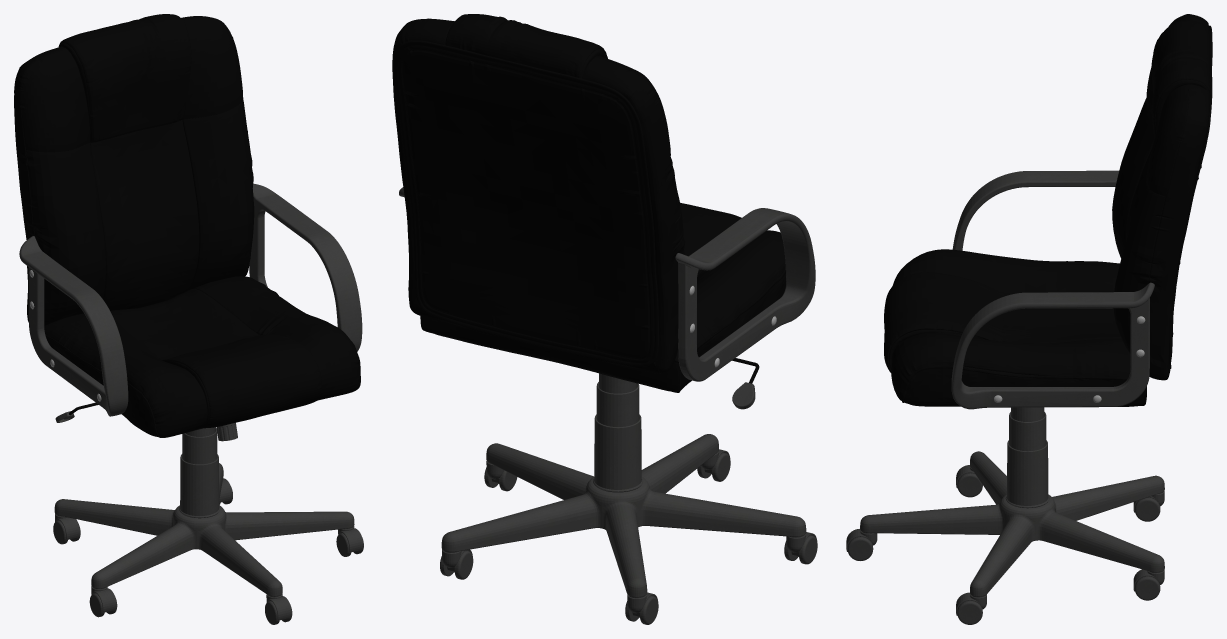
3 views of the same model, side by side, from view 1: azimuth 30°, elevation 25°; view 2: azimuth 150°, elevation 25°; view 3: azimuth 270°, elevation 25° (orthographic). The views are drawn at different scales.
Parts seen in each view (by area): view 1: part_03, part_06, part_02; view 2: part_03, part_06, part_02; view 3: part_03, part_06, part_02, part_09, part_07, part_08, part_16.
Part boxes in pixels (x1,y1,x2,y2): part_03: (14, 14, 360, 437); part_06: (54, 427, 354, 596); part_02: (19, 183, 362, 441); part_03: (392, 14, 785, 392); part_06: (441, 373, 806, 597); part_02: (399, 187, 815, 381); part_03: (884, 14, 1212, 406); part_06: (860, 407, 1164, 596); part_02: (951, 170, 1154, 409); part_09: (1134, 576, 1160, 600); part_07: (957, 600, 982, 624); part_08: (847, 537, 873, 560); part_16: (1135, 497, 1160, 521).
Size of the model in its own units: 0.6219 by 1.09 by 0.706.
5 materials, 3 textured.
